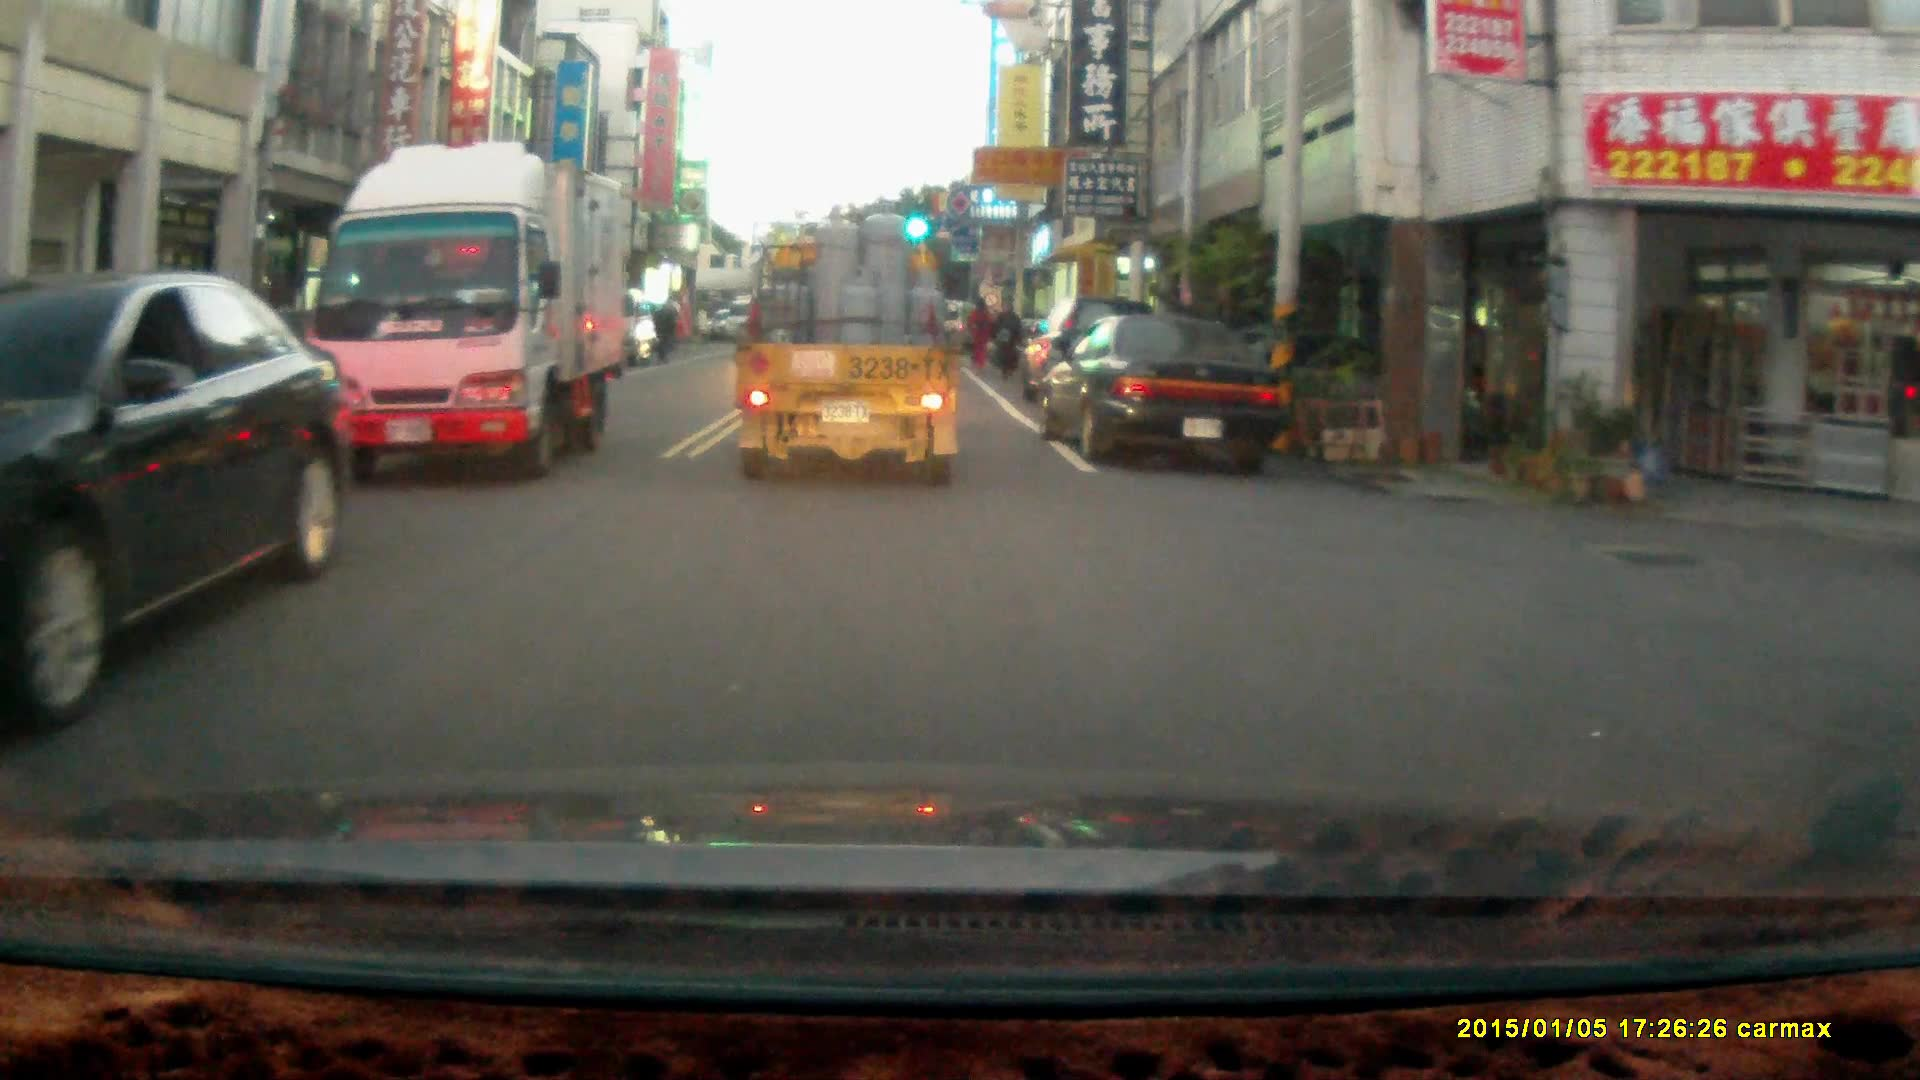pedestrian: (989, 295, 1021, 383), (963, 291, 994, 367), (650, 298, 681, 363)
vehicle: (1, 269, 351, 739), (305, 142, 628, 486), (729, 195, 967, 489), (1044, 309, 1287, 467)
